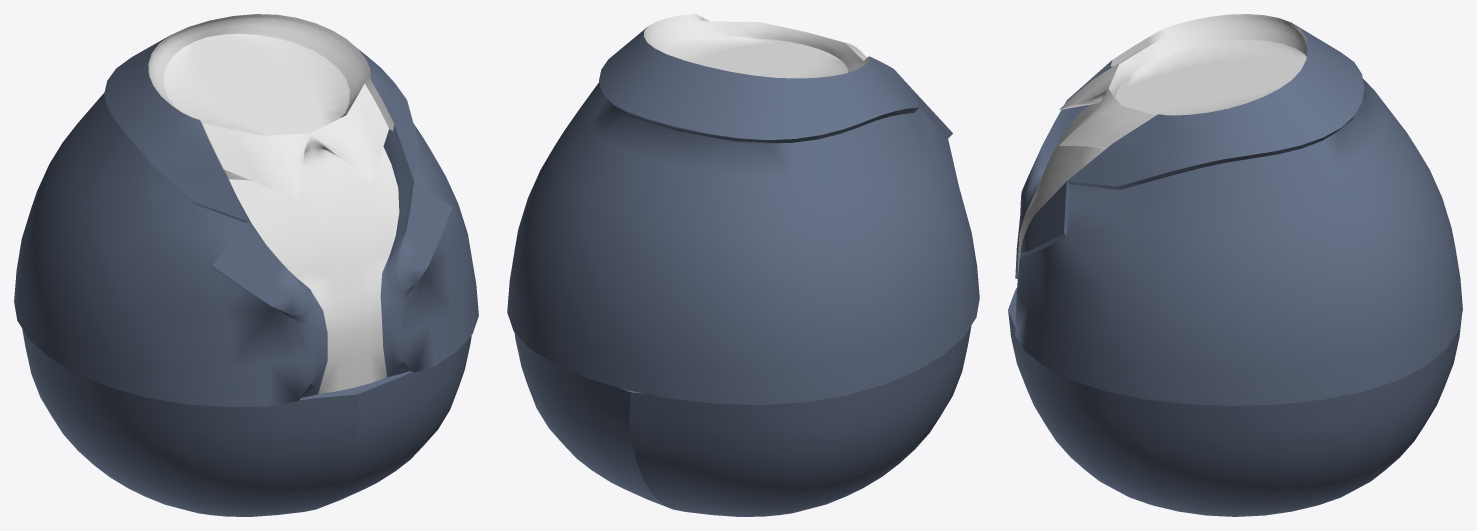
3 views of the same model, side by side, from view 1: azimuth 30°, elevation 25°; view 2: azimuth 150°, elevation 25°; view 3: azimuth 270°, elevation 25° (orthographic).
Visible parts, largest first — view 1: perons6_suit; view 2: perons6_suit; view 3: perons6_suit.
Boxes of the visible parts, box(x1,y1,x2,y2) form: perons6_suit: box(14, 14, 478, 516); perons6_suit: box(507, 14, 979, 516); perons6_suit: box(1008, 14, 1462, 516).
Size of the model in its own units: 1.4 by 1.5 by 1.4.
